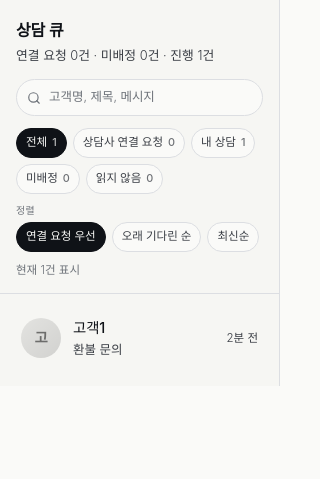
Test case: QueuePanel › 필터 결과가 없으면 조건에 맞는 빈 상태를 표시한다
Click the button "미배정 0": x=48, y=179 x1=16 y1=164 x2=80 y2=194
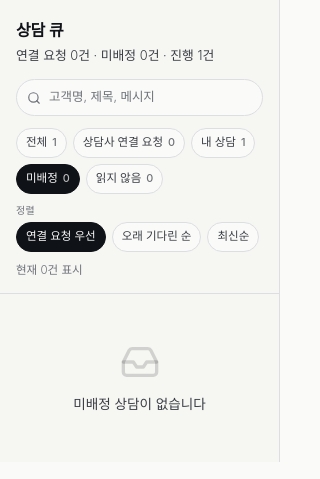
Expected: the text "미배정 상담이 없습니다" is shown, x1=73 y1=394 x2=206 y2=414
